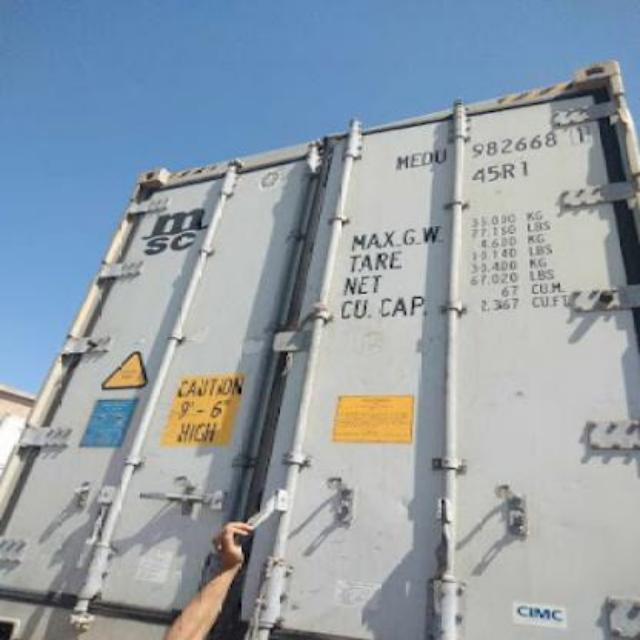1: (570, 124, 592, 144)
2: (494, 134, 514, 156)
6: (530, 128, 546, 156), (514, 132, 530, 154)
8: (480, 138, 498, 158), (544, 126, 558, 150)
9: (464, 139, 482, 159)
D: (420, 146, 436, 170)
E: (408, 150, 422, 172)
M: (390, 148, 410, 170)
U: (434, 144, 448, 166)
